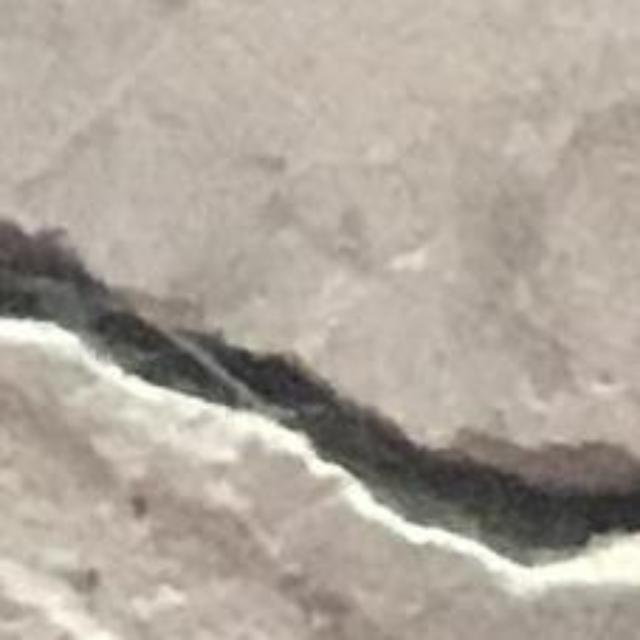crack: (0, 220, 639, 586)
